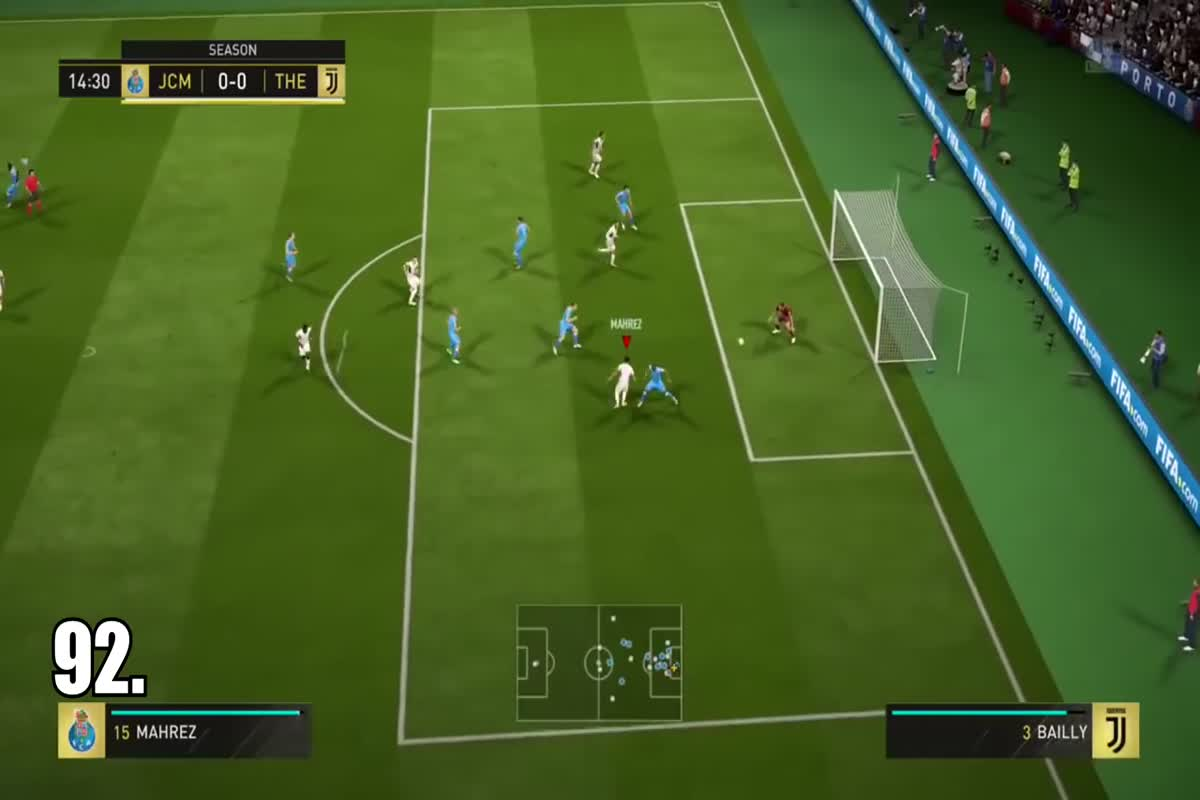ball: (727, 332, 756, 349)
